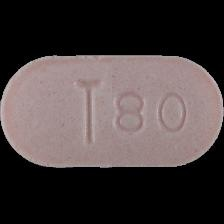0093-7580: (0, 0, 224, 224)
